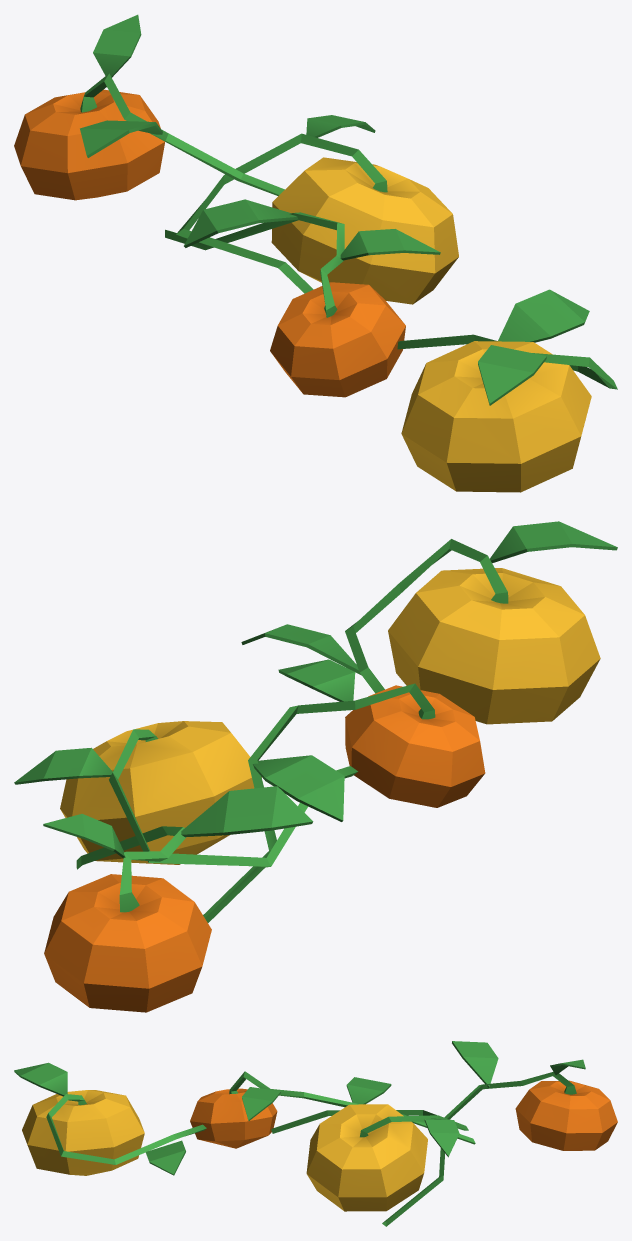
File: plant_003.glb
The picture shows the model from 3 angles, top to bottom: view 1: azimuth 30°, elevation 25°; view 2: azimuth 150°, elevation 25°; view 3: azimuth 270°, elevation 25°; orthographic projection. The views are drawn at different scales.
Visible parts, largest first — view 1: plant_003; view 2: plant_003; view 3: plant_003.
Part boxes in pixels (box(x1,y1,x2,y2)): plant_003: box(14, 14, 617, 492); plant_003: box(14, 521, 617, 1012); plant_003: box(14, 1041, 617, 1226).
Size of the model in its own units: 1.71 by 1.05 by 4.8.
1 material, 1 textured.
